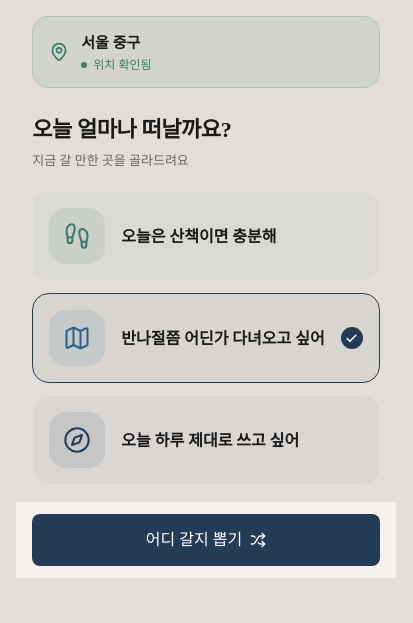
Test: StartView — 추천 실패 안내 › 알 수 없는 실패(UNKNOWN)면 재시도 안내를 보여준다
The width and height of the screenshot is (413, 623).
Click the button "어디 갈지 뽑기" at (206, 540), box [32, 514, 380, 566]
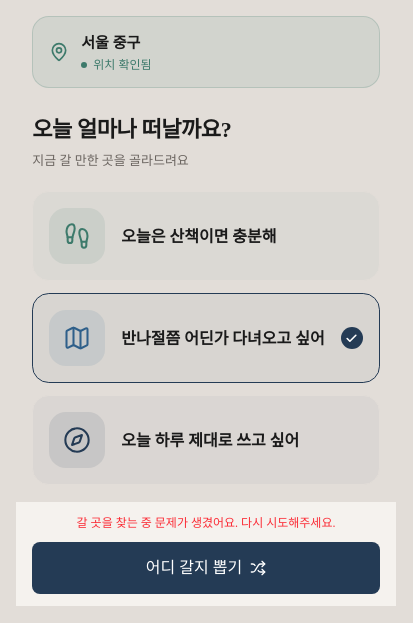
Expected: the button "어디 갈지 뽑기" is enabled, [32, 542, 380, 594]
Expected: the message shows "다시 시도해주세요", [77, 516, 335, 530]
